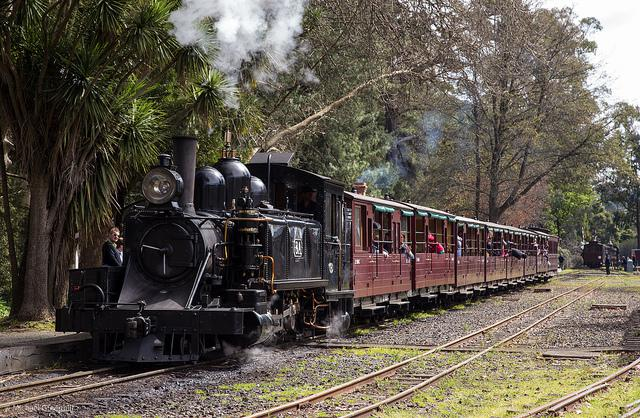Train: (56, 127, 566, 365)
